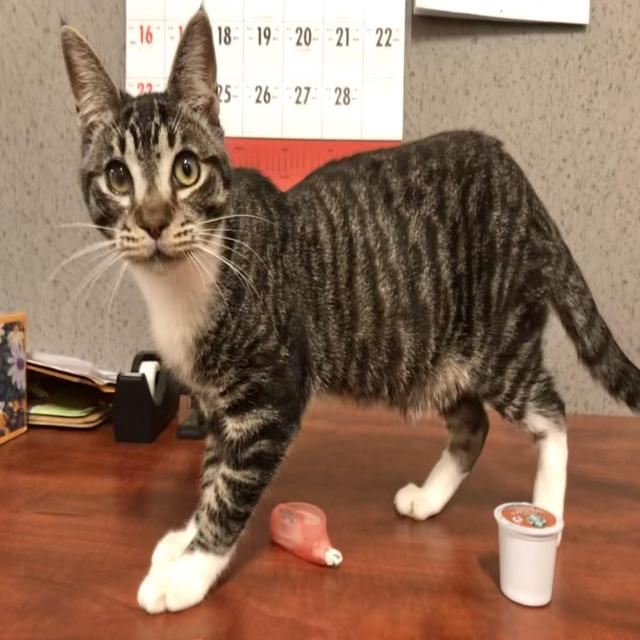american_shorthair_cat: (56, 1, 250, 296)
